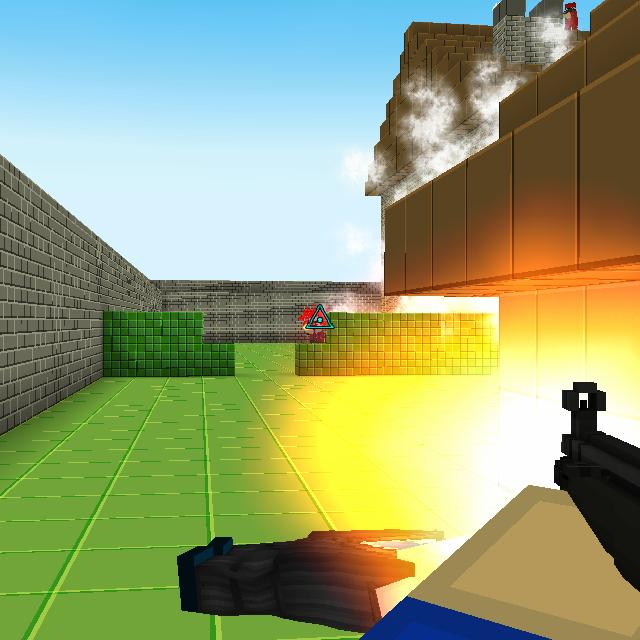enemy: (304, 309, 329, 344)
